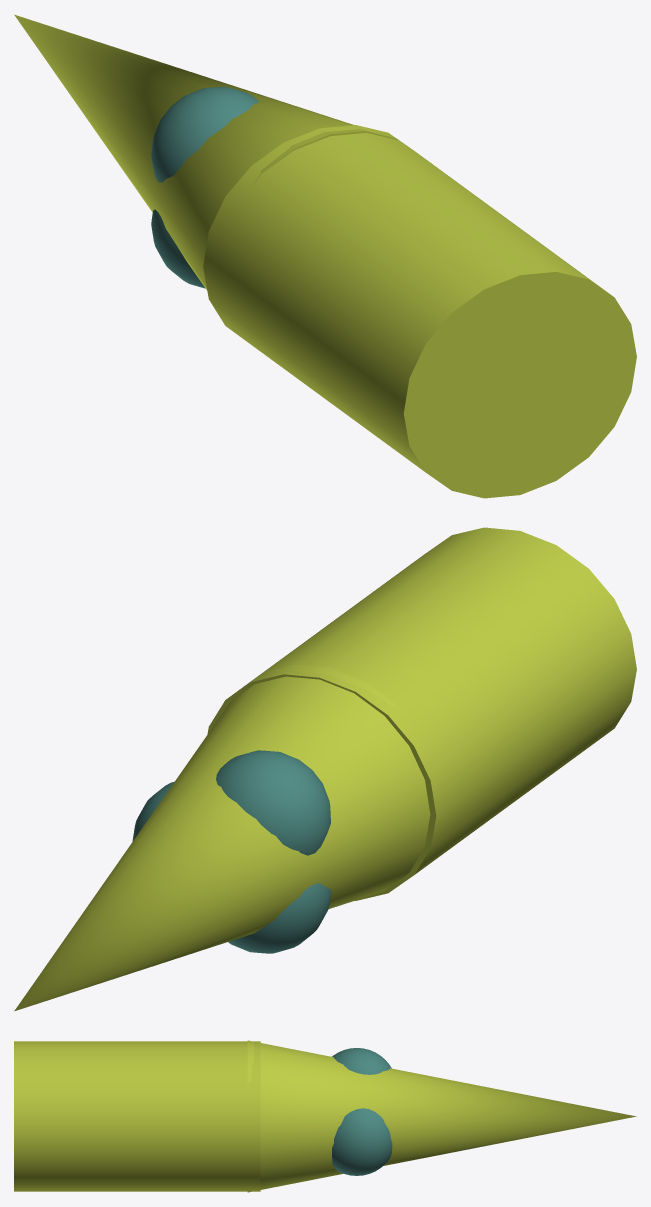
Rendered from Bullet.fbx.
The picture shows the model from 3 angles, top to bottom: view 1: azimuth 30°, elevation 25°; view 2: azimuth 150°, elevation 25°; view 3: azimuth 270°, elevation 25°; orthographic projection. The views are drawn at different scales.
Visible parts, largest first — view 1: pCylinder2; view 2: pCylinder2; view 3: pCylinder2.
Part boxes in pixels (x1,y1,x2,y2): pCylinder2: [14, 14, 636, 498]; pCylinder2: [14, 527, 636, 1011]; pCylinder2: [14, 1040, 636, 1192].
Size of the model in its own units: 0.4432 by 0.4064 by 1.67.
